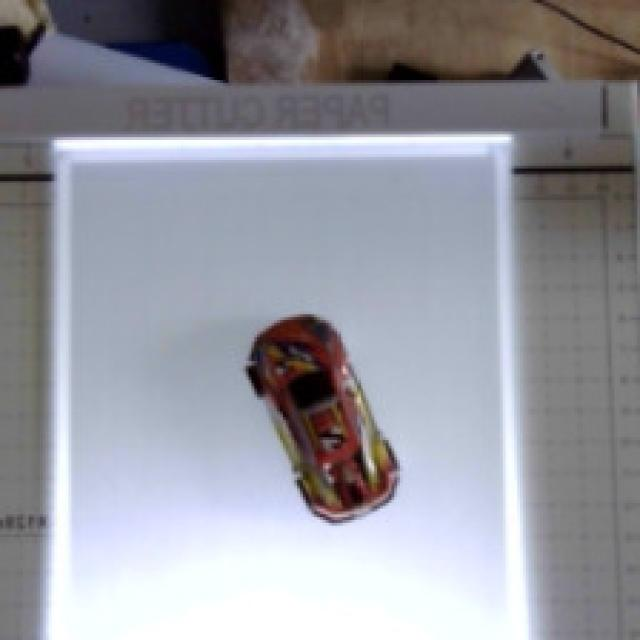Red Car: (189, 294, 457, 552)
